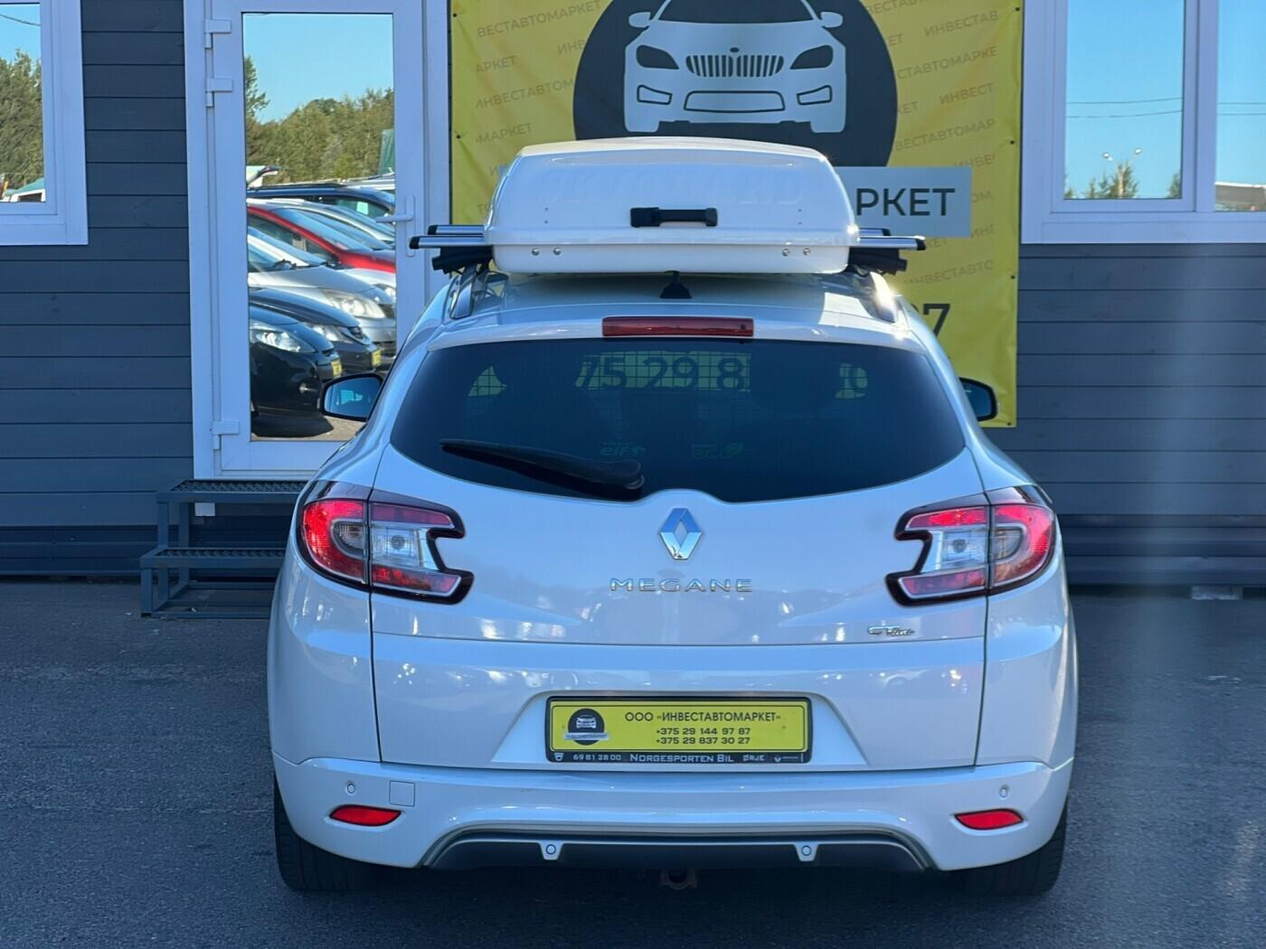Megane_2012-2014: (264, 256, 1089, 897)
